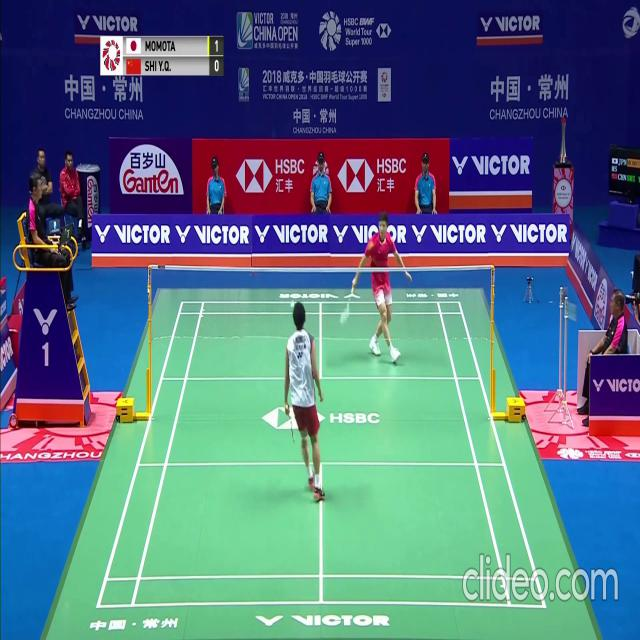Shuttlecock: (291, 299, 295, 307)
